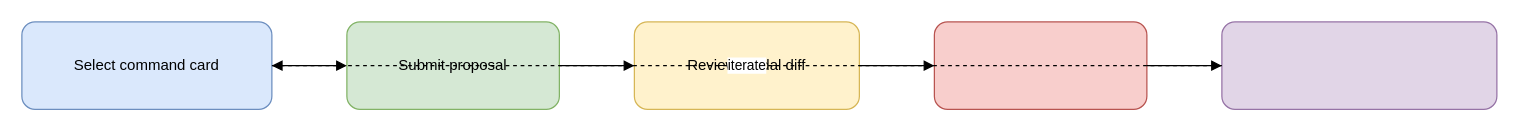
Image size: 1519x131. Some labels were removed from this diagram. Each missing label, with the centre of its shape:
"Apply & commit" goes at point (1040, 65).
"Verify in Artifacts tab" goes at point (1359, 65).
